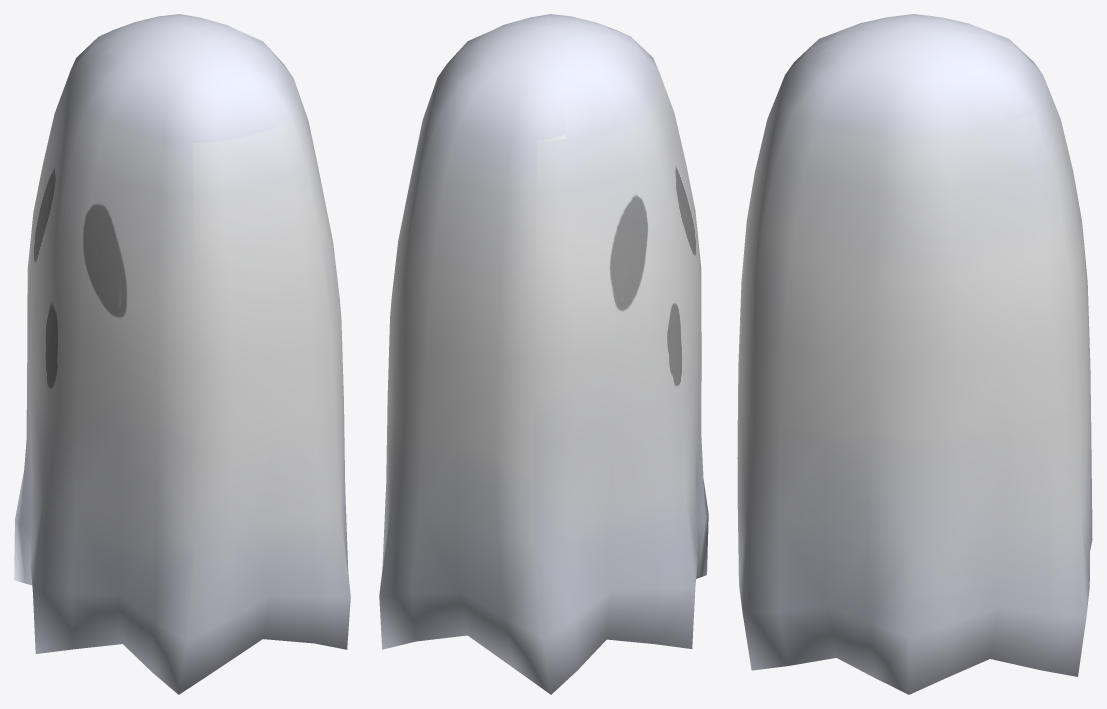
File: GHOST_TALL.fbx
The picture shows the model from 3 angles, left to right: view 1: azimuth 30°, elevation 25°; view 2: azimuth 150°, elevation 25°; view 3: azimuth 270°, elevation 25°; orthographic projection. The views are drawn at different scales.
Visible parts, largest first — view 1: ghsot_2_finished; view 2: ghsot_2_finished; view 3: ghsot_2_finished.
Part boxes in pixels (bbox=[...]): ghsot_2_finished: bbox=[14, 14, 350, 694]; ghsot_2_finished: bbox=[379, 14, 708, 694]; ghsot_2_finished: bbox=[737, 14, 1092, 694].
Bounding box in the file's own units: 81.69 × 152 × 79.92.
